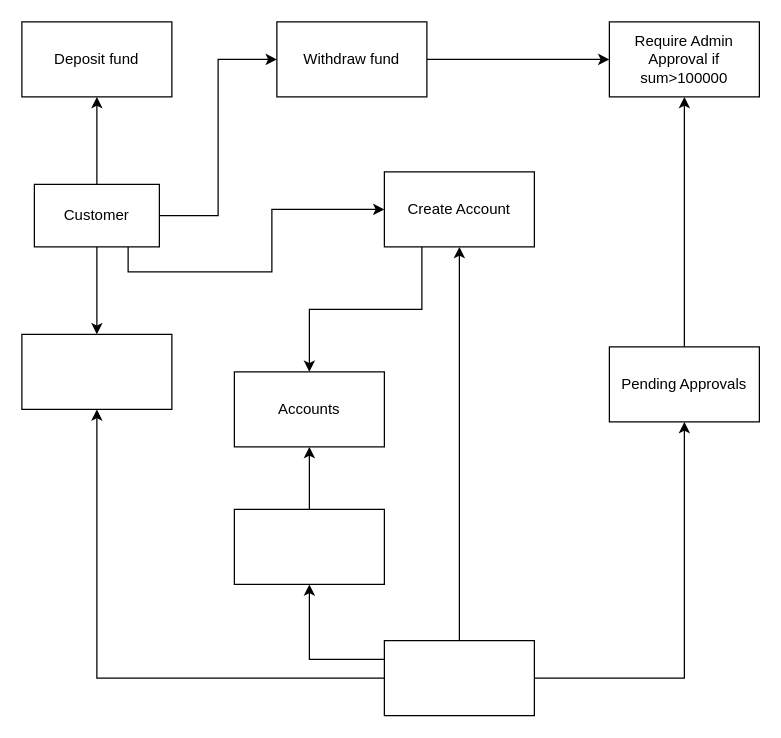
The diagram is 781 pixels wide and 738 high, and some of its shapes have lost their labels. Here are the shapes that lost their labels. From the top down, the centre of each, then its label:
At (x=96, y=371): "View Transaction History".
At (x=308, y=546): "Delete Account".
At (x=458, y=677): "Admin".
